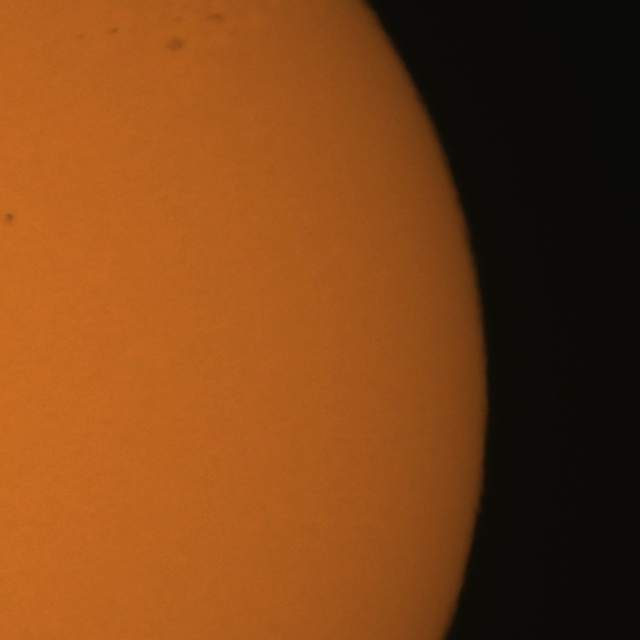sunspot: (1, 211, 15, 228), (106, 26, 120, 38)
